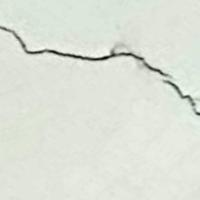crack: (0, 18, 200, 123)
